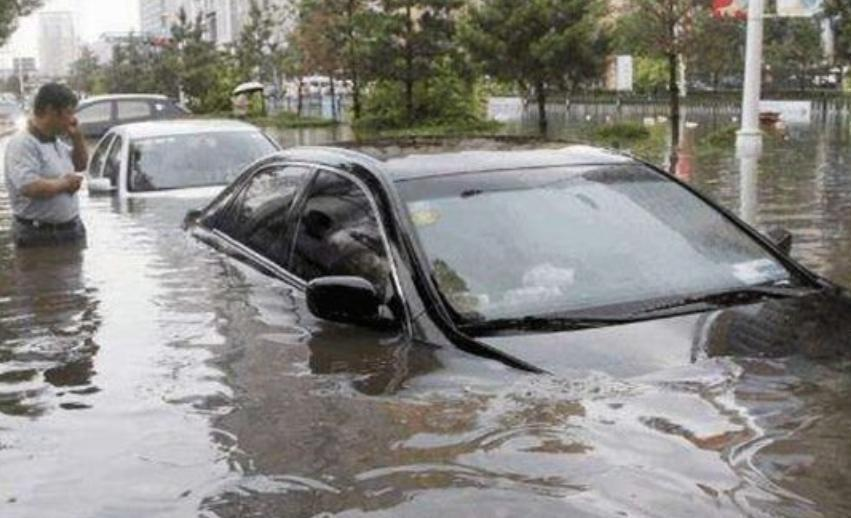water: (0, 106, 849, 514), (266, 113, 848, 288)
